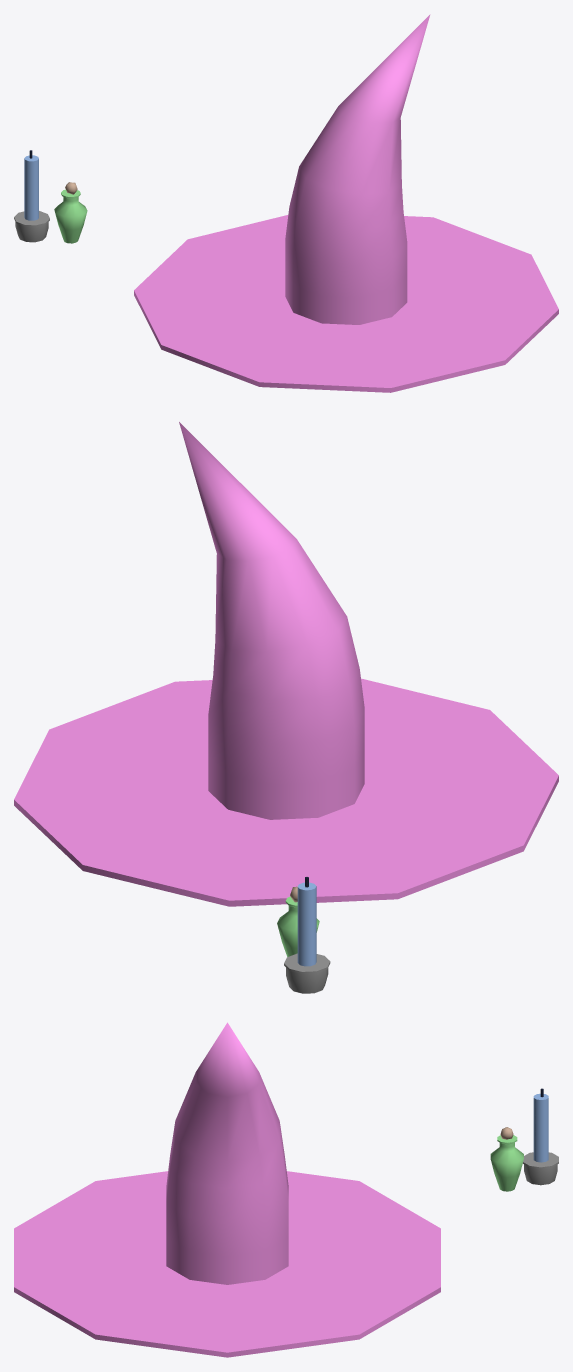
The model's file is barret, poti y props.fbx.
The picture shows the model from 3 angles, top to bottom: view 1: azimuth 30°, elevation 25°; view 2: azimuth 150°, elevation 25°; view 3: azimuth 270°, elevation 25°; orthographic projection. The views are drawn at different scales.
Visible parts, largest first — view 1: poti poti; view 2: poti poti; view 3: poti poti.
Part boxes in pixels (<box>): poti poti: <box>14,14,558,392</box>; poti poti: <box>14,422,558,993</box>; poti poti: <box>14,1022,558,1357</box>.
Size of the model in its own units: 7797 by 5451 by 9464.
